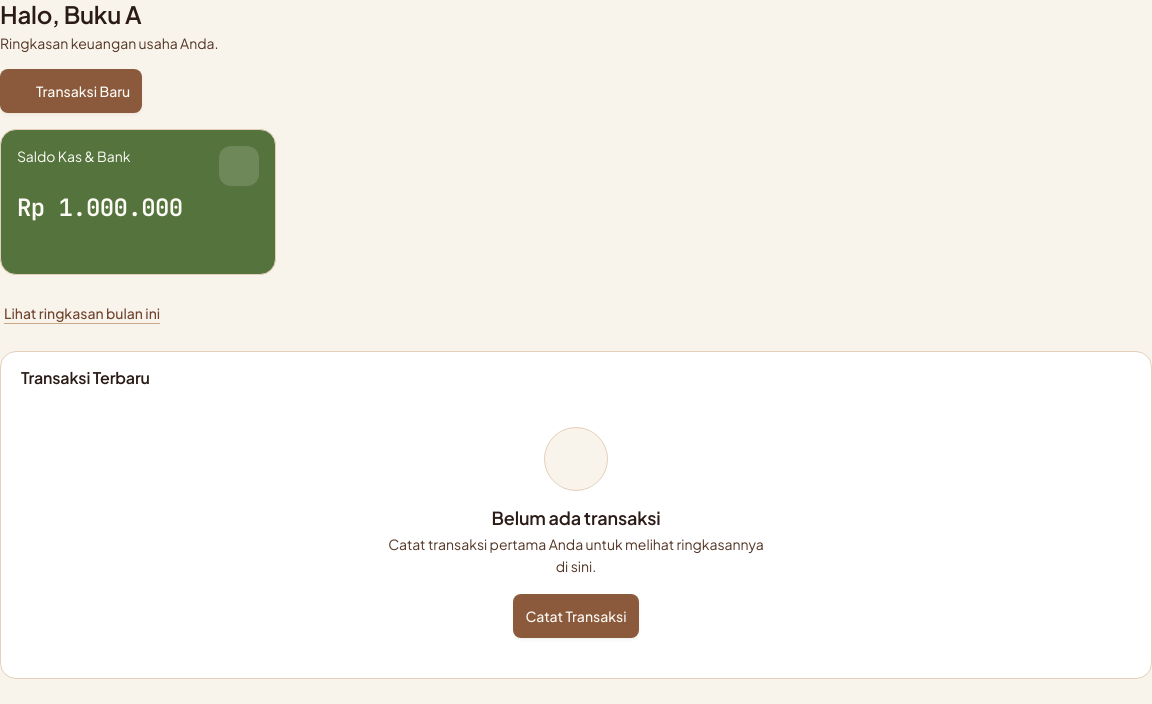
Scenario: DashboardPage › hero saldo selalu tampil, ringkasan bulanan tertutup lalu terbuka via toggle
expect the heading "Belum ada transaksi" is shown: met, box [492,507,660,529]
expect the link "uang masuk bulan ini" is not shown: met
Click the button "Lihat ringkasan bulan ini" at point(82, 313), box [0,291,164,335]
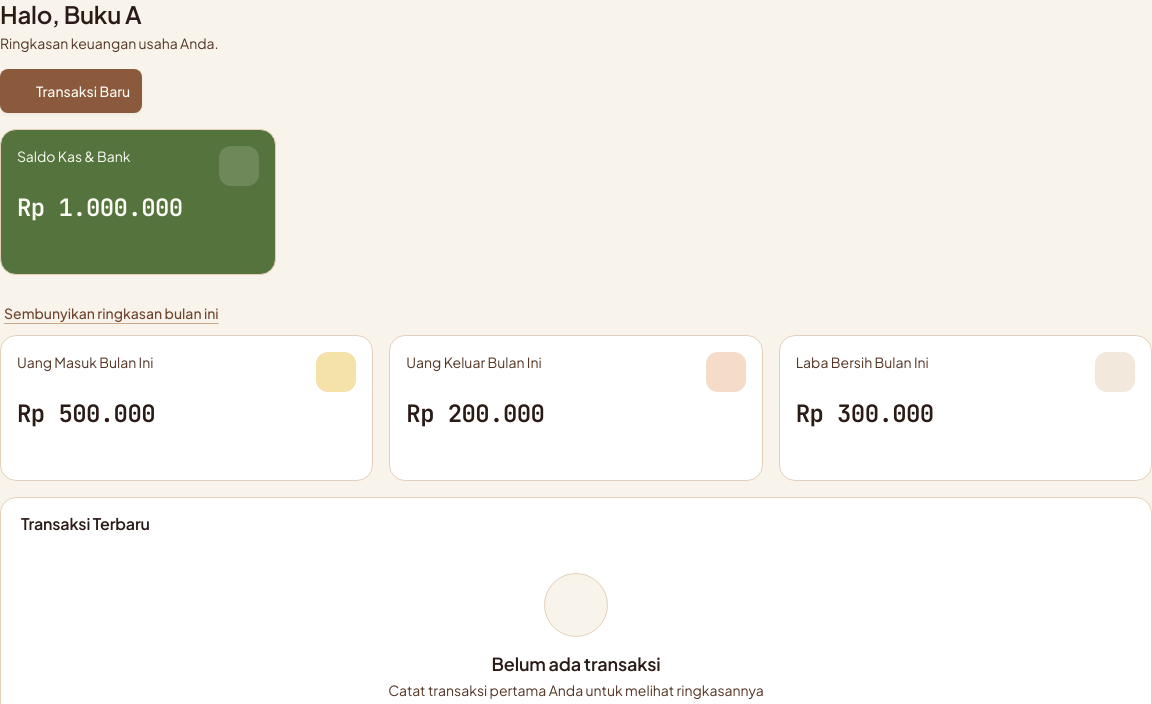
expect the button "Sembunyikan ringkasan bulan ini" is expanded: met, box [0,291,223,335]
